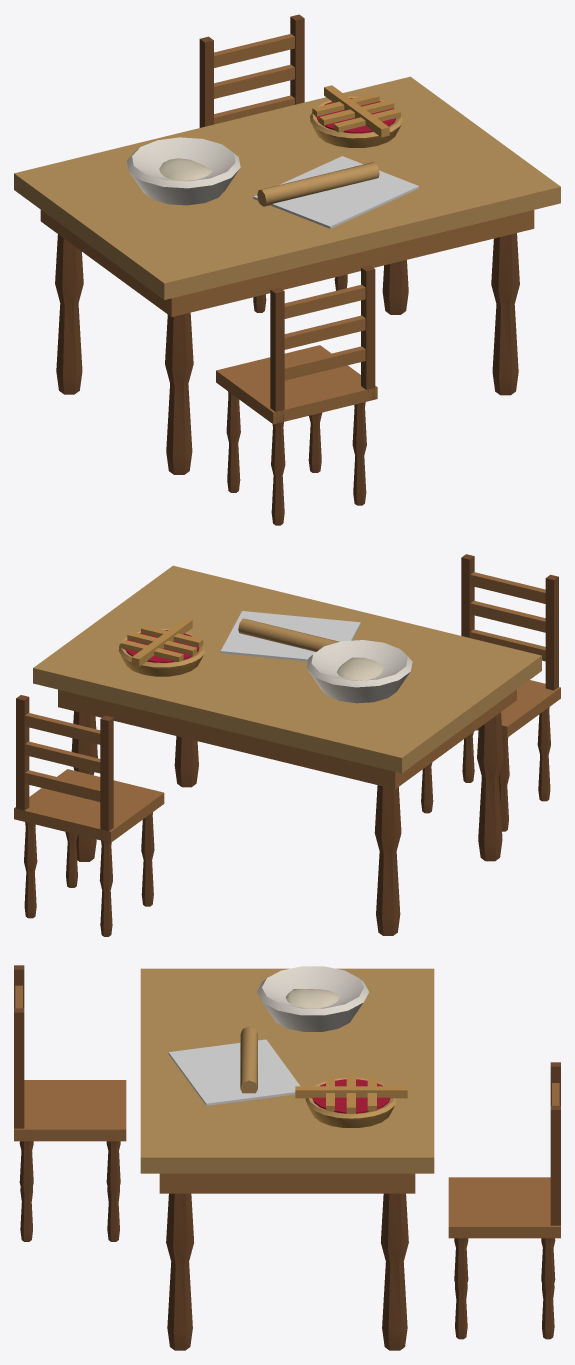
The model's file is duet_table.glb.
3 renders of one model, top to bottom at view 1: azimuth 30°, elevation 25°; view 2: azimuth 150°, elevation 25°; view 3: azimuth 270°, elevation 25°, orthographic. The views are drawn at different scales.
Parts seen in each view (by area): view 1: furniture-duet_table; view 2: furniture-duet_table; view 3: furniture-duet_table.
Boxes of the visible parts, x1=… form: furniture-duet_table: x1=14, y1=14, x2=560, y2=525; furniture-duet_table: x1=14, y1=554, x2=560, y2=936; furniture-duet_table: x1=14, y1=965, x2=560, y2=1350.
Bounding box in the file's own units: 1.59 × 0.9336 × 1.94.
